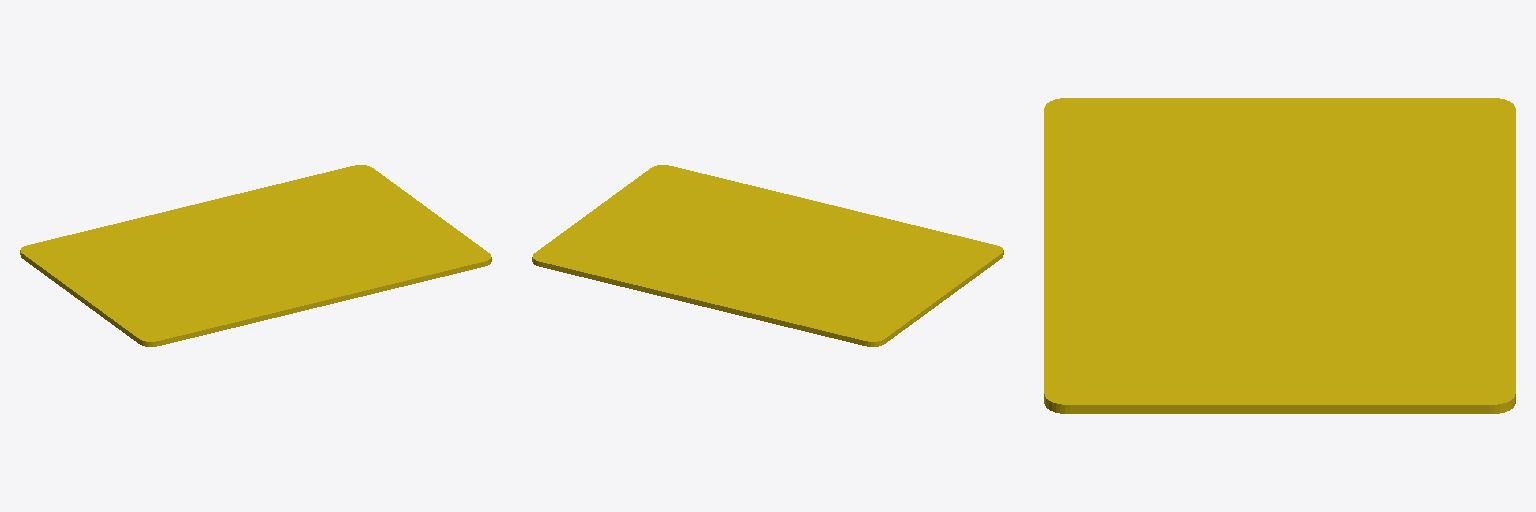
URDF robot description (cb_card):
<?xml version="1.0"?>
<!-- ContactBench card. Generated by FoundationTouch tools/contactbench/make_contactbench_assets.py -->
<robot name="cb_card">
  <material name="c"><color rgba="0.85 0.75 0.10 1.0"/></material>
  <link name="object">
    <visual><origin xyz="0 0 0" rpy="0 0 0"/><geometry><mesh filename="card.obj" scale="1 1 1"/></geometry><material name="c"/></visual>
    <collision><origin xyz="0 0 0" rpy="0 0 0"/><geometry><box size="0.085000 0.055000 0.001200"/></geometry></collision>
    <inertial><mass value="0.006945"/><origin xyz="0 0 0" rpy="0 0 0"/><inertia ixx="1.746118e-06" ixy="-1.709663e-23" ixz="-1.519329e-24" iyy="4.168965e-06" iyz="-1.252194e-26" izz="5.913416e-06"/></inertial>
  </link>
</robot>

--- Render facts (derived) ---
Views: 3 orthographic renders of the robot side by side, from view 1: azimuth 30°, elevation 25°; view 2: azimuth 150°, elevation 25°; view 3: azimuth 270°, elevation 25°.
Robot: cb_card — 1 links, 0 joints (none); root link object; default pose: all joints at 0.
Links seen in each view (by area): view 1: object; view 2: object; view 3: object.
Link boxes in pixels (<box>): object: <box>20,165,491,346</box>; object: <box>532,165,1003,346</box>; object: <box>1044,98,1515,413</box>.
Bounding box of the posed robot: 0.085 × 0.055 × 0.0012 m (x, y, z).
Meshes: 1 distinct files referenced, 1 mesh visuals loaded (1 OBJ).
